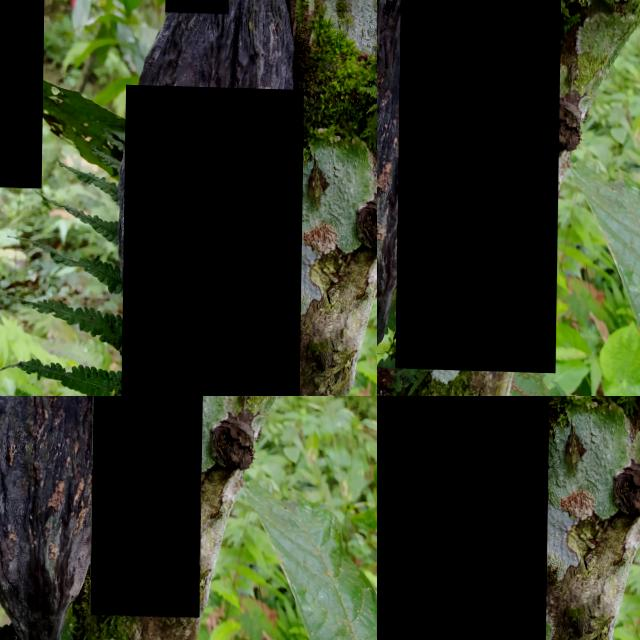Fitoftora: (121, 83, 304, 396), (377, 396, 551, 640)
Monilia: (397, 0, 562, 370), (0, 0, 45, 187)
Sana: (91, 396, 204, 615)
